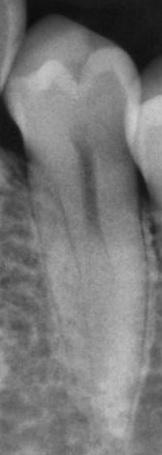tooth: (2, 13, 150, 440)
